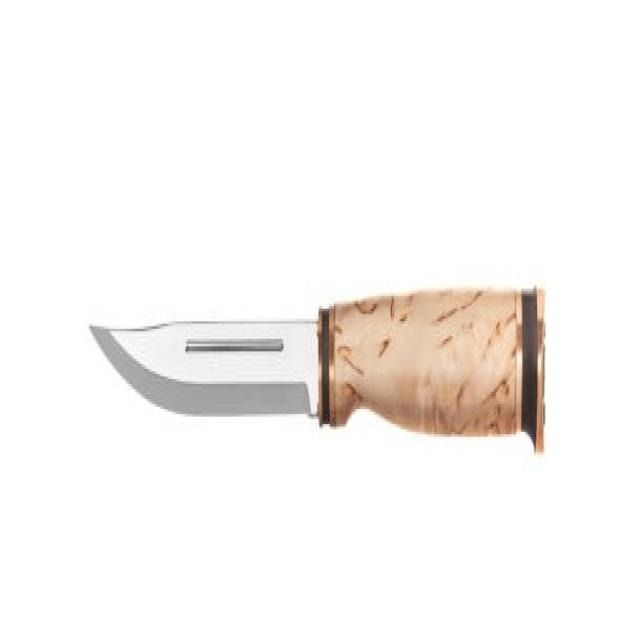knife: (86, 279, 553, 469)
